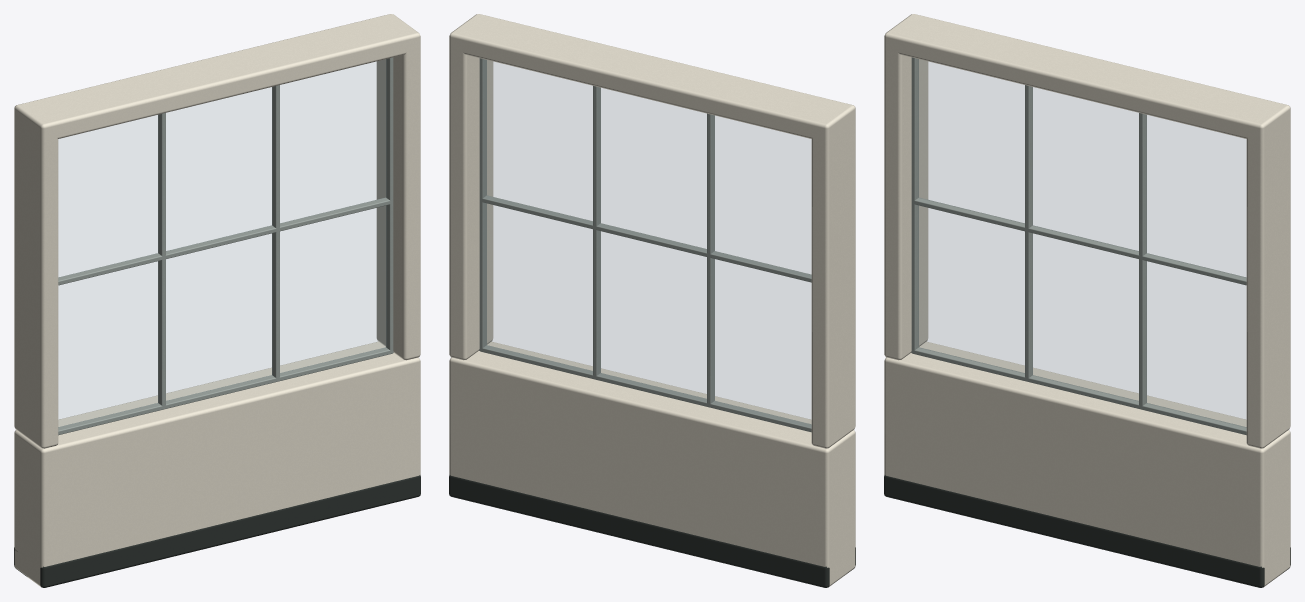
Rendered from window-bay.glb.
The picture shows the model from 3 angles, left to right: view 1: azimuth 30°, elevation 25°; view 2: azimuth 150°, elevation 25°; view 3: azimuth 330°, elevation 25°; orthographic projection.
Parts seen in each view (by area): view 1: window_glass, window_sill_wall, window_pier (×2), window_header, window_plinth, window_mullion (×3), window_transom (×2); view 2: window_glass, window_sill_wall, window_pier (×2), window_header, window_plinth, window_mullion (×3), window_transom (×2); view 3: window_glass, window_sill_wall, window_pier (×2), window_header, window_plinth, window_mullion (×3), window_transom (×2).
Boxes of the visible parts, bbox=[...] form: window_glass: bbox=[58, 59, 386, 427]; window_sill_wall: bbox=[14, 341, 420, 586]; window_pier (×2): bbox=[14, 14, 420, 448]; window_header: bbox=[14, 16, 420, 140]; window_plinth: bbox=[14, 475, 420, 587]; window_mullion (×3): bbox=[158, 57, 393, 408]; window_transom (×2): bbox=[58, 197, 392, 435]; window_glass: bbox=[483, 59, 811, 427]; window_sill_wall: bbox=[449, 341, 855, 586]; window_pier (×2): bbox=[449, 14, 855, 448]; window_header: bbox=[449, 16, 855, 140]; window_plinth: bbox=[449, 475, 855, 587]; window_mullion (×3): bbox=[479, 58, 714, 406]; window_transom (×2): bbox=[480, 195, 811, 432]; window_glass: bbox=[918, 59, 1246, 427]; window_sill_wall: bbox=[884, 341, 1290, 586]; window_pier (×2): bbox=[884, 14, 1290, 448]; window_header: bbox=[884, 16, 1290, 140]; window_plinth: bbox=[884, 475, 1290, 587]; window_mullion (×3): bbox=[911, 57, 1146, 408]; window_transom (×2): bbox=[912, 197, 1246, 435].
Bounding box in the file's own units: 3 × 3.5 × 0.41.
Materials: 4 (3 with a texture image).
